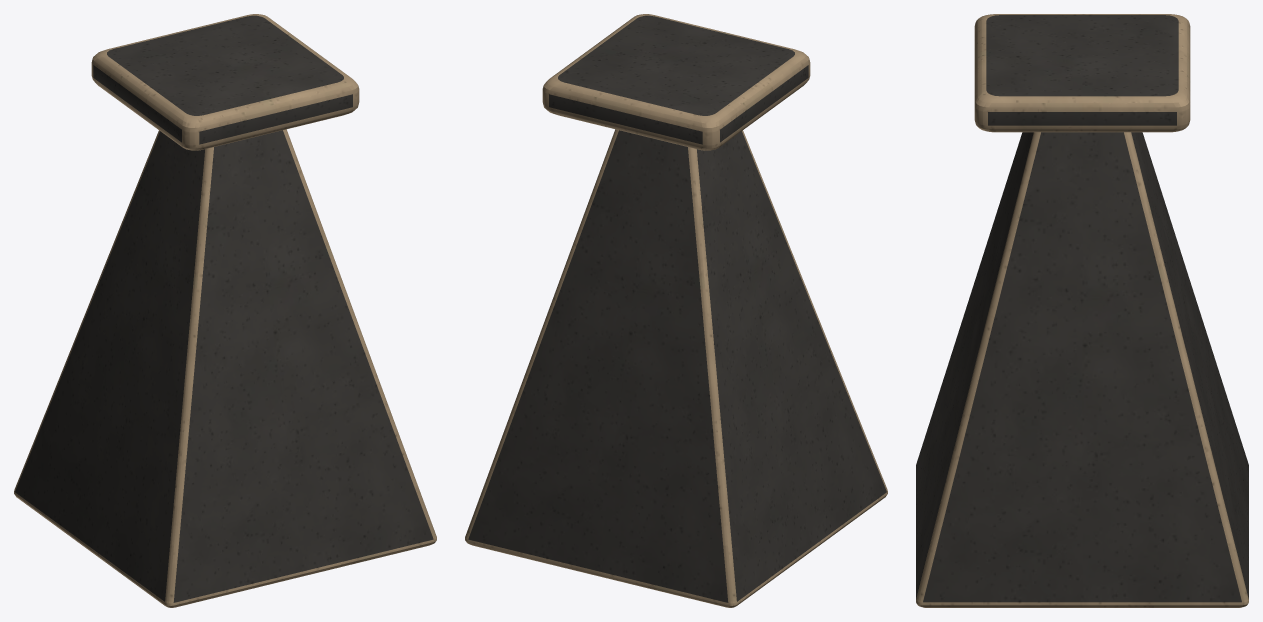
Rendered from pesec_cerny.glb.
3 views of the same model, side by side, from view 1: azimuth 30°, elevation 25°; view 2: azimuth 150°, elevation 25°; view 3: azimuth 270°, elevation 25° (orthographic). The views are drawn at different scales.
Visible parts, largest first — view 1: pawn_black; view 2: pawn_black; view 3: pawn_black.
Boxes of the visible parts, box(x1,y1,x2,y2) form: pawn_black: box(14, 14, 436, 607); pawn_black: box(465, 14, 887, 607); pawn_black: box(916, 14, 1248, 607).
Bounding box in the file's own units: 0.0306 × 0.0491 × 0.0306.
2 materials, 2 textured.
